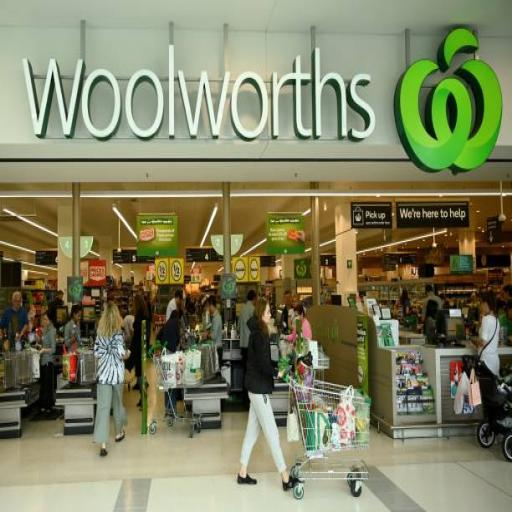shopping_cart: (278, 368, 374, 500), (146, 340, 202, 438)
